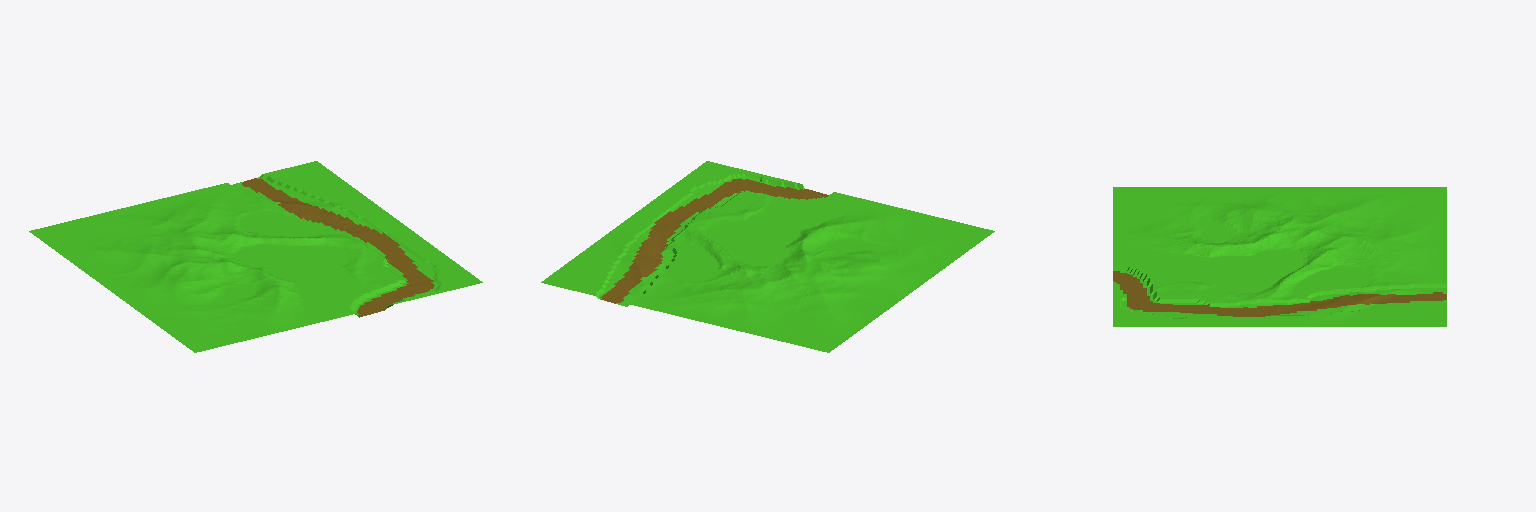
The model's file is park.obj.
The picture shows the model from 3 angles: view 1: azimuth 30°, elevation 25°; view 2: azimuth 150°, elevation 25°; view 3: azimuth 270°, elevation 25°; orthographic projection.
Visible parts, largest first — view 1: Landscape_1; view 2: Landscape_1; view 3: Landscape_1.
Boxes of the visible parts, x1=… form: Landscape_1: x1=29, y1=161, x2=482, y2=352; Landscape_1: x1=541, y1=161, x2=994, y2=352; Landscape_1: x1=1113, y1=187, x2=1446, y2=326.
Bounding box in the file's own units: 3544 × 131 × 3544.